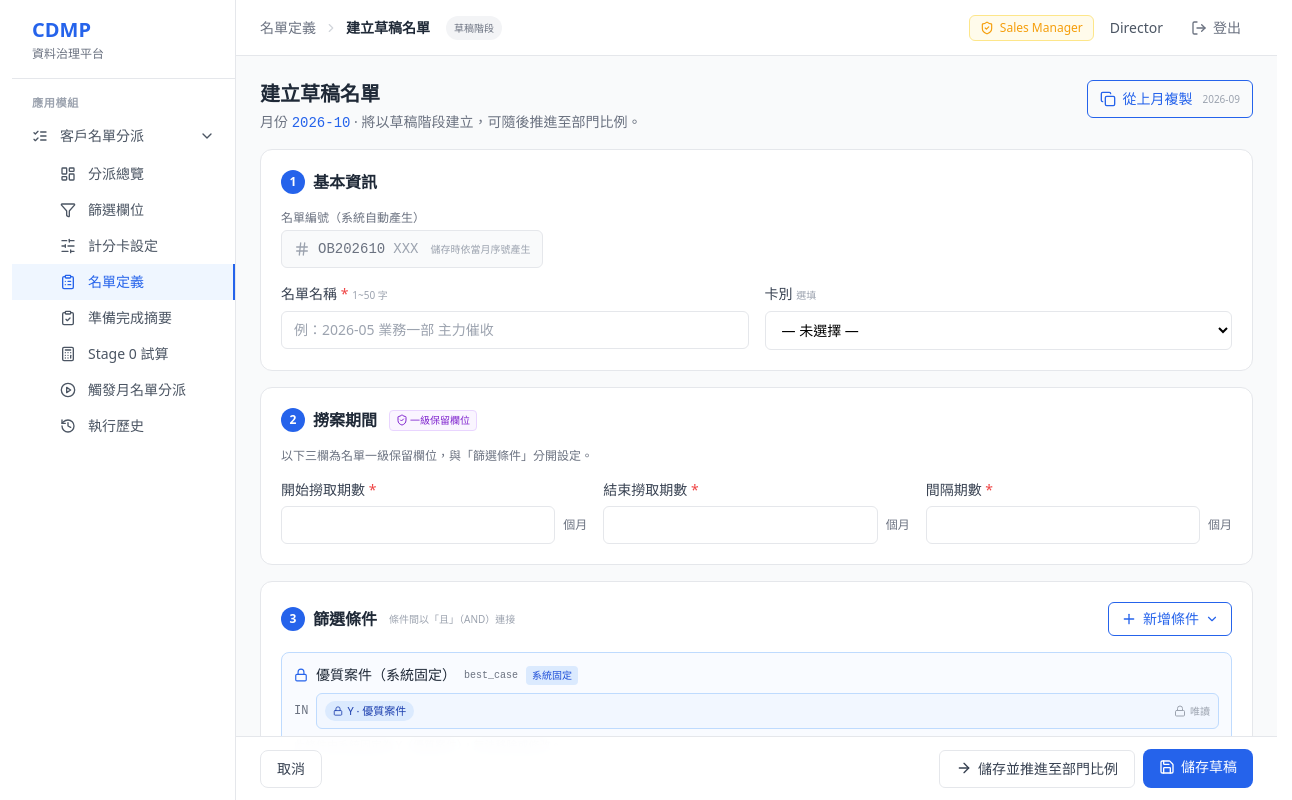
Test: ListCreateDraftPage v2.1 (Phase 5d 波 8) › lc.test#7: 選 case_status → 呼叫 listOptions(case_status)；不呼叫 /assignment-codes
Click the button with test id "btn-add-condition" at (1170, 619), box [1108,602,1232,636]
(page scrolled)
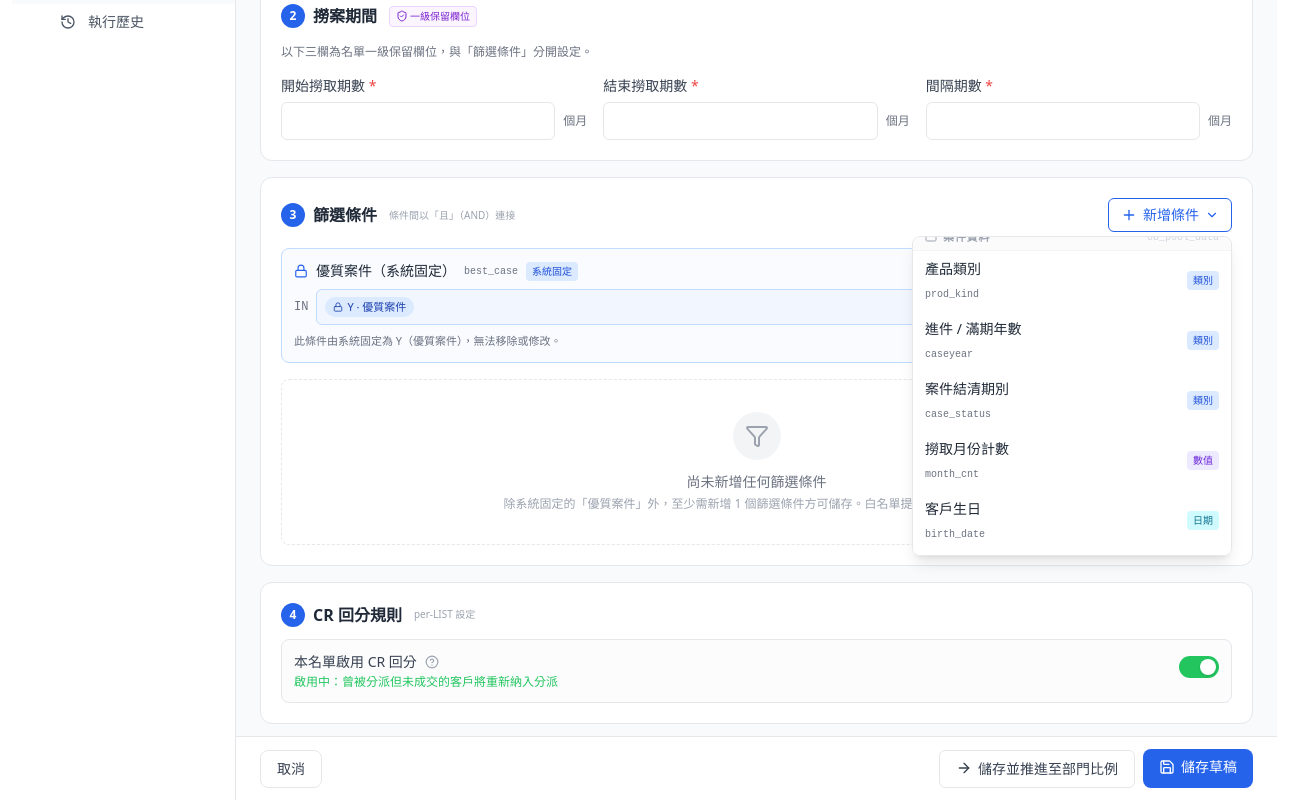
Check: the button with test id "add-field-case_status" is shown
Click the button with test id "add-field-case_status" at (967, 388), box [913,371,1231,431]
(page scrolled)
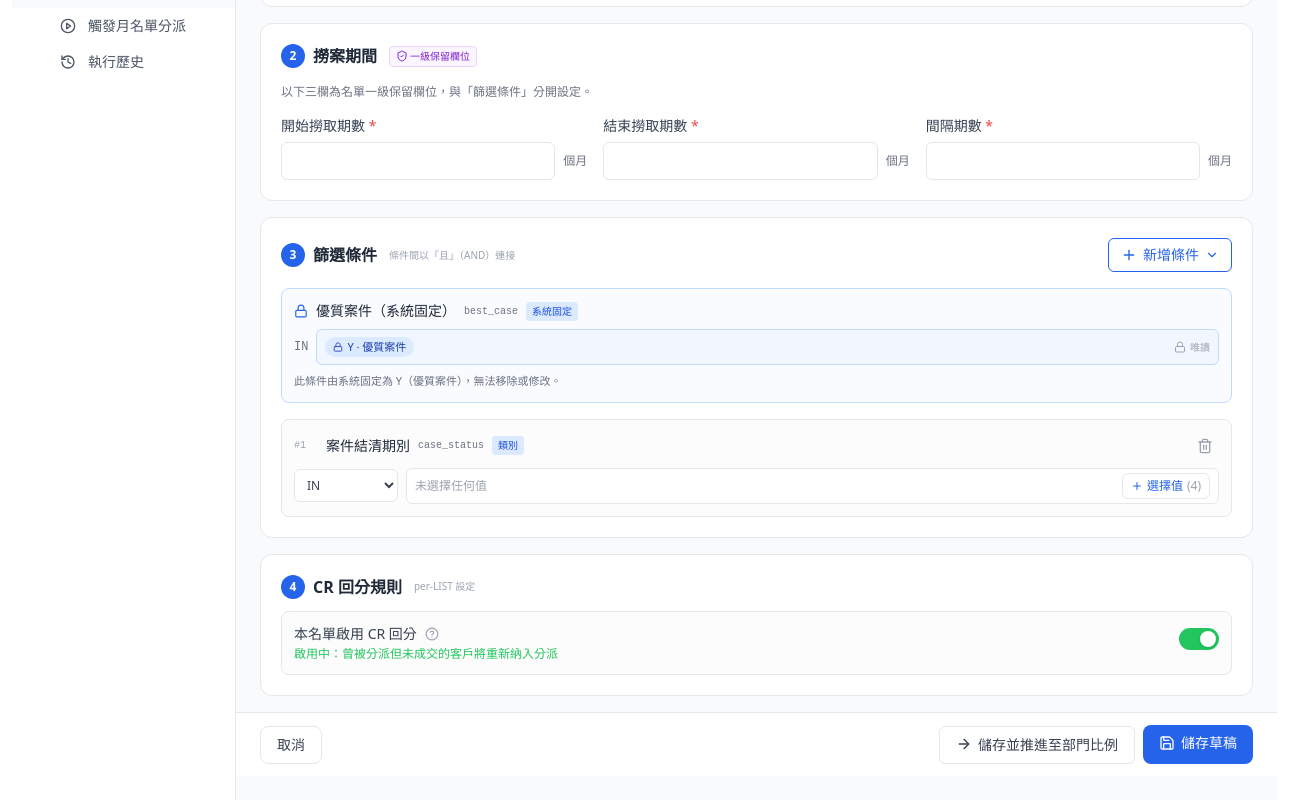
Note: 4 個 option
Click the button with test id "btn-open-values-0" at (1166, 486), box [1122,472,1210,498]
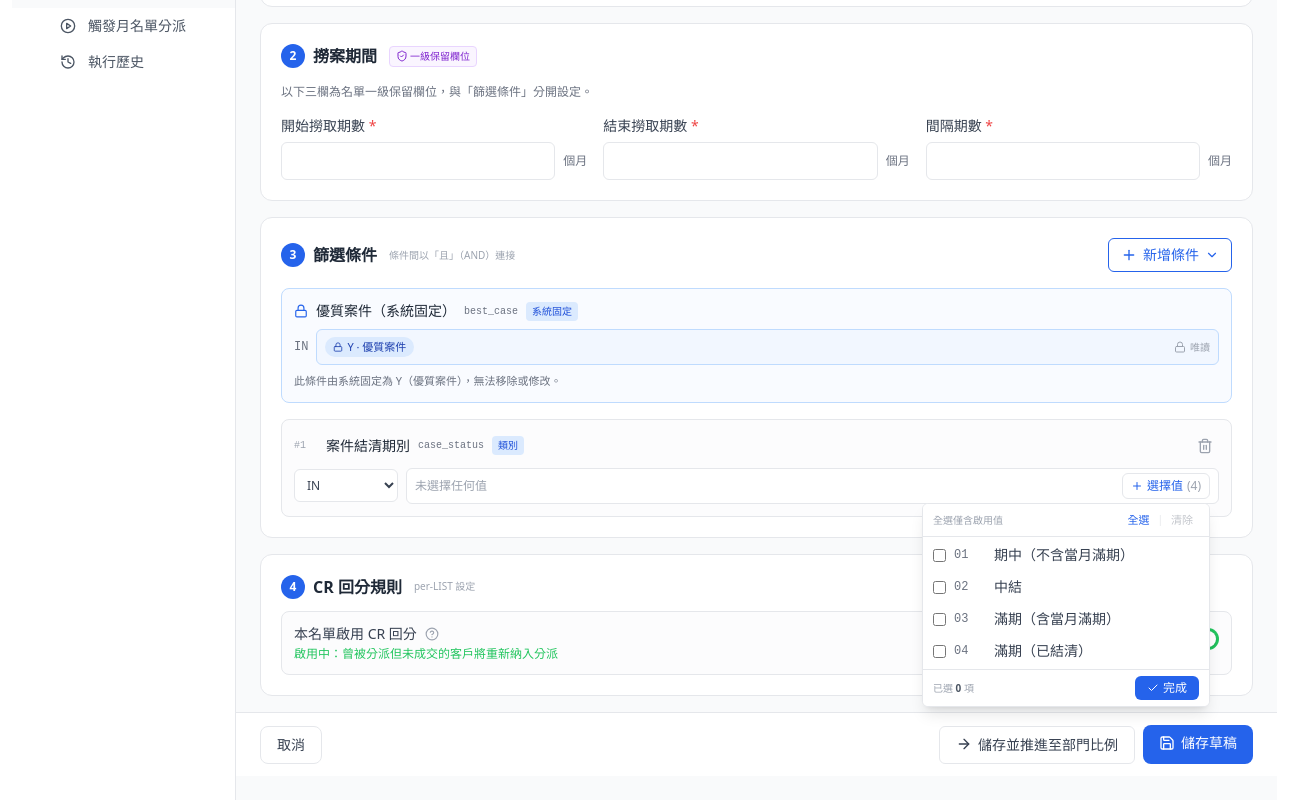
Check: the checkbox with test id "value-checkbox-0-01" is shown, box [933,548,946,562]
Check: the checkbox with test id "value-checkbox-0-04" is shown, box [933,644,946,658]
